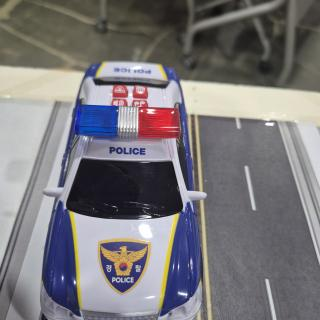Police_car: (40, 61, 206, 320)
